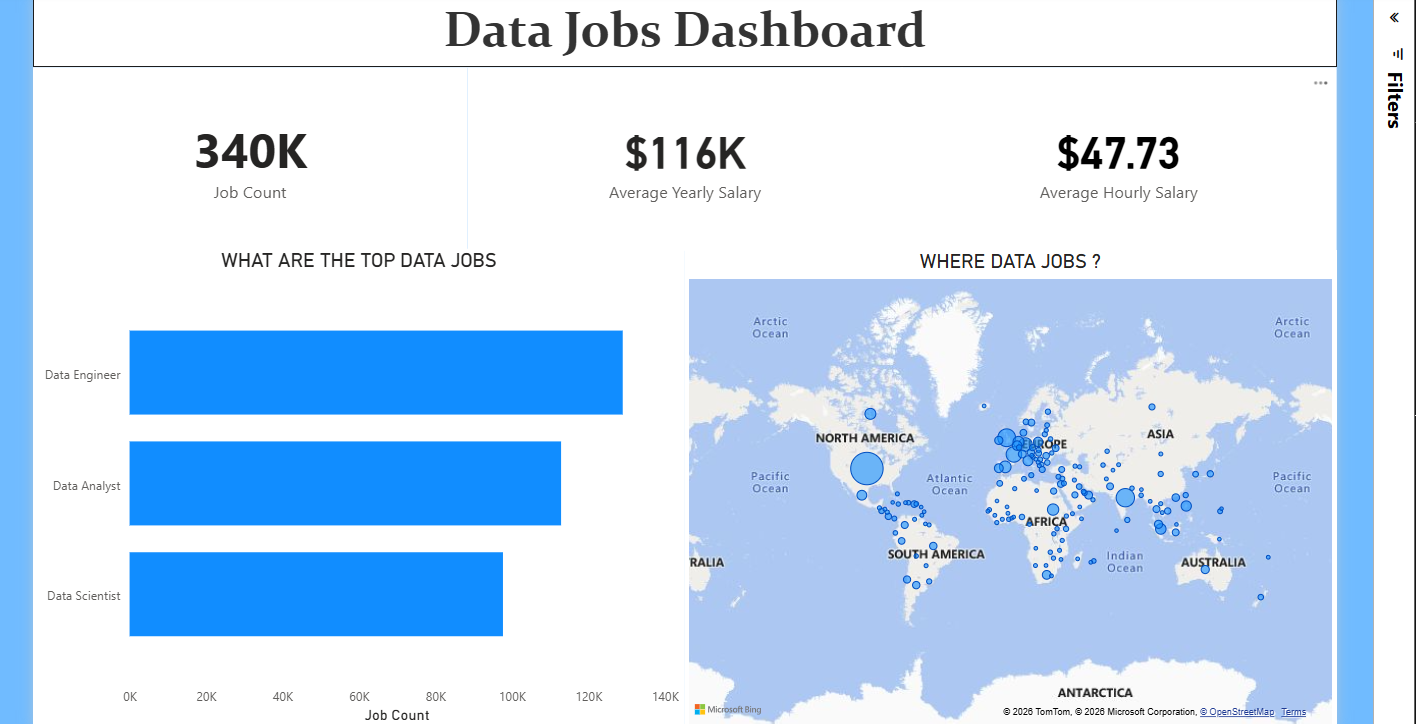

The dashboard page shown, as its layout file describes it:
{"tool":"powerbi","page":{"name":"Data Jobs","canvas":[1280,720],"ordinal":0},"visuals":[{"type":"card","fields":{"Values":["CountNonNull(job_postings_flat.job_title_short)"]},"box":[0,70.7,426.7,180],"z":0},{"type":"card","fields":{"Values":["Avg(job_postings_flat.salary_hour_avg)"]},"box":[853.3,70.7,426.7,180],"z":1000},{"type":"card","fields":{"Values":["Avg(job_postings_flat.salary_year_avg)"]},"box":[426.7,70.7,426.7,180],"z":2000},{"type":"clusteredBarChart","title":"WHAT ARE THE  TOP DATA JOBS","fields":{"Category":["job_postings_flat.job_title_short"],"Y":["CountNonNull(job_postings_flat.job_title_short)"]},"box":[0,248.8,639.4,471.5],"z":3000},{"type":"map","title":"WHERE DATA JOBS ?","fields":{"Category":["job_postings_flat.job_country"],"Size":["CountNonNull(job_postings_flat.job_title_short)"]},"box":[639.4,250,640.6,470.2],"z":4000},{"type":"textbox","box":[0,0,1280,70.7],"z":4001}]}

Visuals, with their boxes on the page's 1280x720 design canvas (x1, y1, x2, y2). These are canvas units, not pixel positions in the 1416x724 screenshot, which may show the page scaled, cropped or inside an application window:
card - CountNonNull(job_postings_flat.job_title_short): 0:71:427:251
card - Avg(job_postings_flat.salary_hour_avg): 853:71:1280:251
card - Avg(job_postings_flat.salary_year_avg): 427:71:853:251
"WHAT ARE THE  TOP DATA JOBS" clusteredBarChart: 0:249:639:720
"WHERE DATA JOBS ?" map: 639:250:1280:720
textbox: 0:0:1280:71
